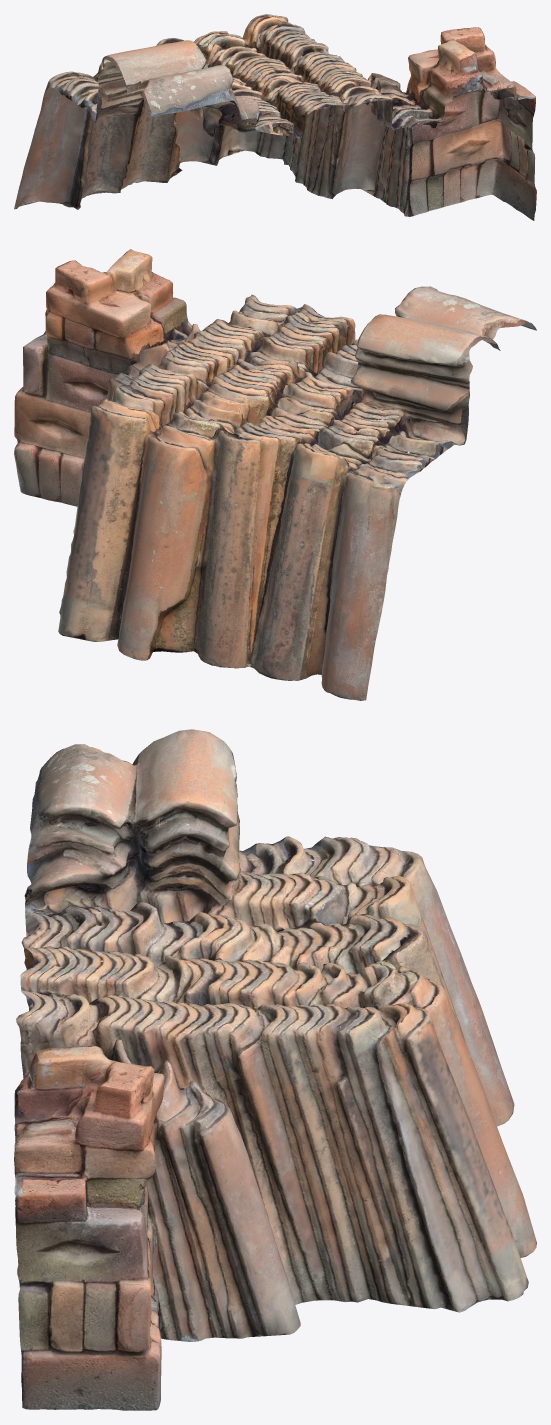
Rendered from roof_tiles.glb.
3 views of the same model, one above another, from view 1: azimuth 30°, elevation 25°; view 2: azimuth 150°, elevation 25°; view 3: azimuth 270°, elevation 25° (orthographic). The views are drawn at different scales.
Parts seen in each view (by area): view 1: Object_2; view 2: Object_2; view 3: Object_2.
Boxes of the visible parts, box(x1,y1,x2,y2) form: Object_2: box(14, 14, 536, 220); Object_2: box(14, 249, 536, 700); Object_2: box(14, 729, 536, 1410).
Bounding box in the file's own units: 1.32 × 0.7232 × 0.9113.
Materials: 1 (1 with a texture image).
